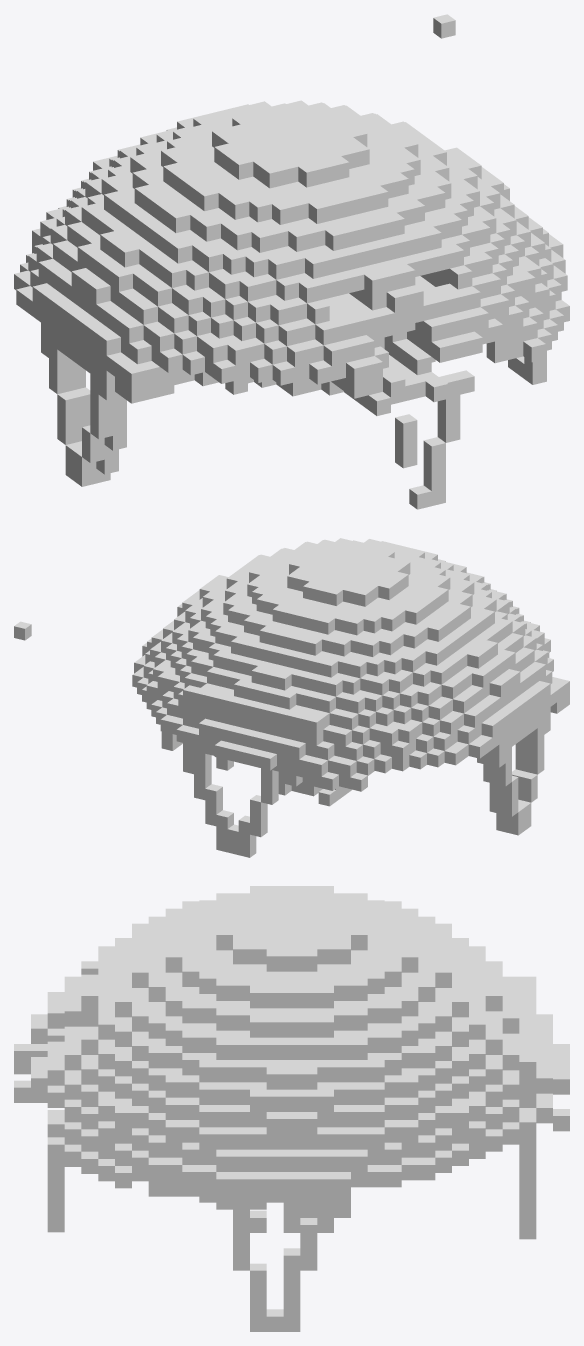
Rendered from manngakann.glb.
3 views of the same model, one above another, from view 1: azimuth 30°, elevation 25°; view 2: azimuth 150°, elevation 25°; view 3: azimuth 270°, elevation 25° (orthographic). The views are drawn at different scales.
Bounding box in the file's own units: 3.6 × 1.9 × 3.3.
1 material, 1 textured.
